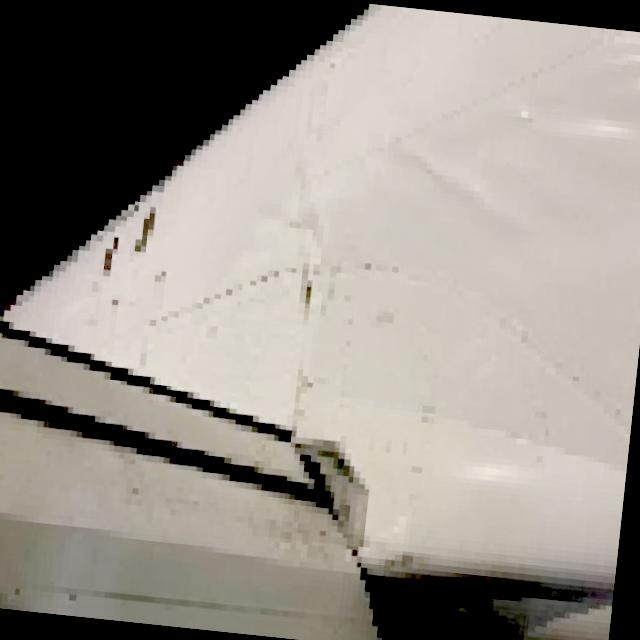dent: (529, 96, 640, 155), (431, 444, 536, 488), (249, 196, 330, 250), (583, 28, 640, 96)
